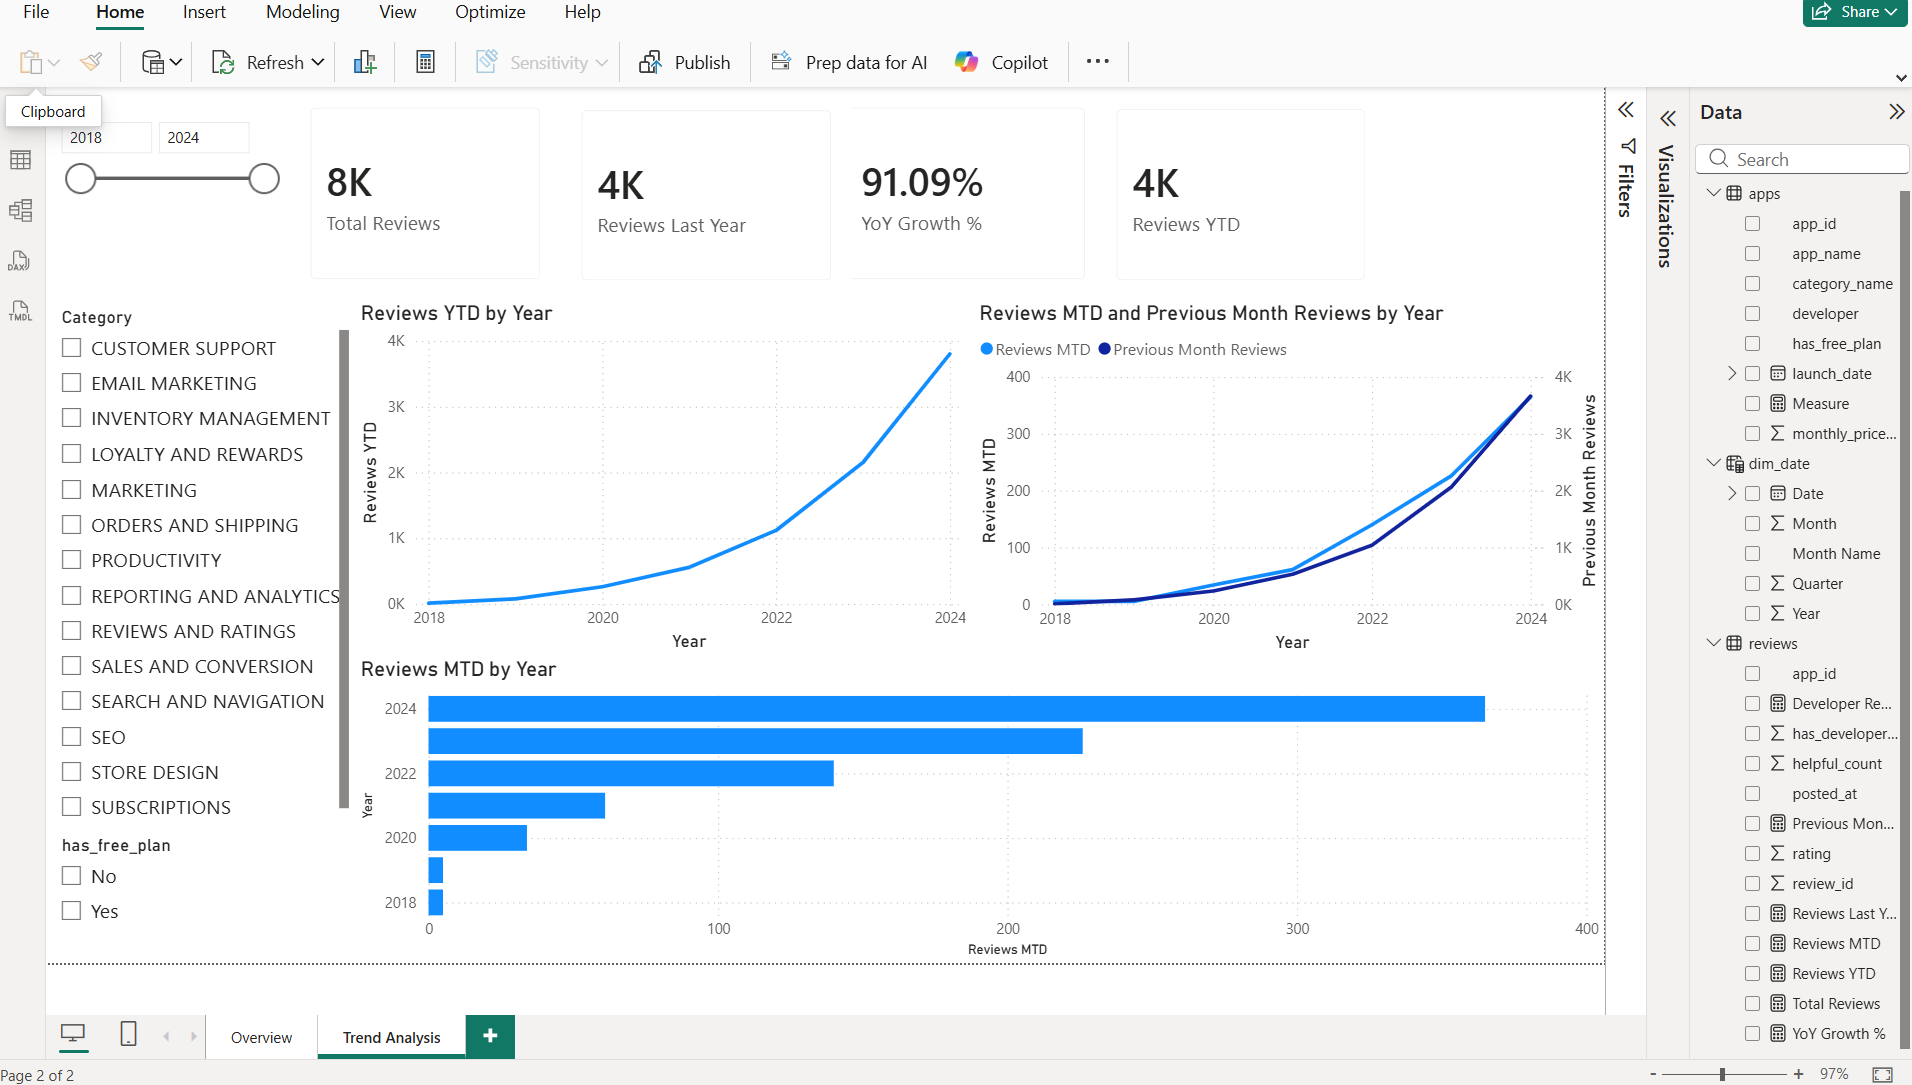

The page's visual inventory and layout, read from the dashboard file:
{"tool":"powerbi","page":{"name":"Trend Analysis","canvas":[1280,720],"ordinal":1},"visuals":[{"type":"cardVisual","fields":{"Data":["reviews.Total Reviews"]},"box":[200,0,223.3,175.6],"z":0},{"type":"cardVisual","fields":{"Data":["reviews.Reviews YTD"]},"box":[862.8,1.2,238.4,175.6],"z":1000},{"type":"lineChart","fields":{"Y":["reviews.Reviews YTD"],"Category":["dim_date.Year"]},"box":[253.5,175.6,507,293],"z":2000},{"type":"lineChart","fields":{"Y2":["reviews.Previous Month Reviews"],"Category":["dim_date.Year"],"Y":["reviews.Reviews MTD"]},"box":[761.6,175.6,518.6,293],"z":3000},{"type":"cardVisual","fields":{"Data":["reviews.YoY Growth %"]},"box":[639.5,0,231.4,175.6],"z":4000},{"type":"cardVisual","fields":{"Data":["reviews.Reviews Last Year"]},"box":[423.3,2.3,239.5,174.4],"z":5000},{"type":"slicer","fields":{"Values":["dim_date.Year"]},"box":[0,0,200.2,175.9],"z":6000},{"type":"slicer","fields":{"Values":["apps.category_name"]},"box":[0,175.6,253.5,433.7],"z":7000},{"type":"slicer","fields":{"Values":["apps.has_free_plan"]},"box":[0,609.3,253.5,110.5],"z":8000},{"type":"clusteredBarChart","fields":{"Y":["reviews.Reviews MTD"],"Category":["dim_date.Date.Variation.Date Hierarchy.Year","dim_date.Date.Variation.Date Hierarchy.Quarter","dim_date.Date.Variation.Date Hierarchy.Month","dim_date.Date.Variation.Date Hierarchy.Day"]},"box":[253.5,468.6,1026.7,251.2],"z":9000}]}

Visuals, with their boxes on the page's 1280x720 design canvas (x1, y1, x2, y2). These are canvas units, not pixel positions in the 1912x1085 screenshot, which may show the page scaled, cropped or inside an application window:
cardVisual - reviews.Total Reviews: detection(200, 0, 423, 176)
cardVisual - reviews.Reviews YTD: detection(863, 1, 1101, 177)
lineChart - reviews.Reviews YTD x dim_date.Year: detection(254, 176, 760, 469)
lineChart - reviews.Previous Month Reviews x dim_date.Year: detection(762, 176, 1280, 469)
cardVisual - reviews.YoY Growth %: detection(640, 0, 871, 176)
cardVisual - reviews.Reviews Last Year: detection(423, 2, 663, 177)
slicer - dim_date.Year: detection(0, 0, 200, 176)
slicer - apps.category_name: detection(0, 176, 254, 609)
slicer - apps.has_free_plan: detection(0, 609, 254, 720)
clusteredBarChart - reviews.Reviews MTD x dim_date.Date.Variation.Date Hierarchy.Year: detection(254, 469, 1280, 720)
